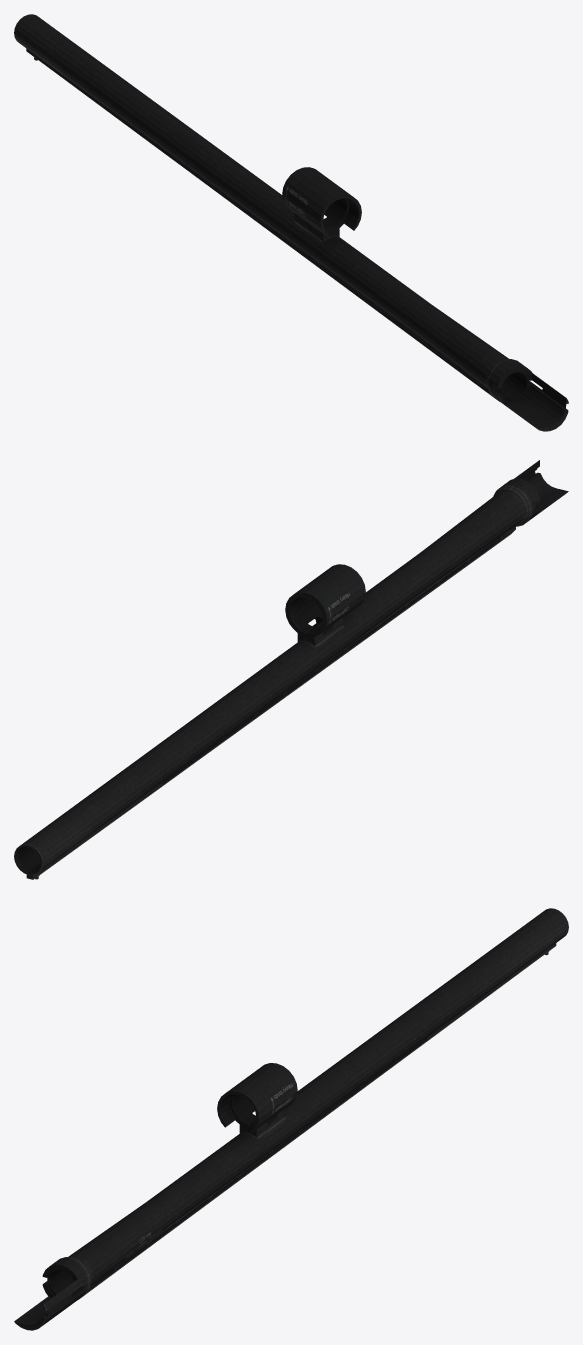
3 views of the same model, one above another, from view 1: azimuth 30°, elevation 25°; view 2: azimuth 150°, elevation 25°; view 3: azimuth 330°, elevation 25° (orthographic).
Visible parts, largest first — view 1: TW_588200c224597743990da9ed_PZ_Import; view 2: TW_588200c224597743990da9ed_PZ_Import; view 3: TW_588200c224597743990da9ed_PZ_Import.
Part boxes in pixels (bbox=[...]): TW_588200c224597743990da9ed_PZ_Import: bbox=[14, 14, 568, 431]; TW_588200c224597743990da9ed_PZ_Import: bbox=[14, 460, 568, 879]; TW_588200c224597743990da9ed_PZ_Import: bbox=[14, 908, 568, 1330].
Size of the model in its own units: 0.0182 by 0.3967 by 0.0368.
1 material, 1 textured.
